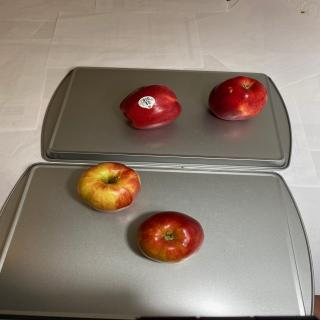Apple: (136, 211, 204, 264), (76, 162, 141, 212), (119, 84, 182, 130), (208, 75, 268, 121)
